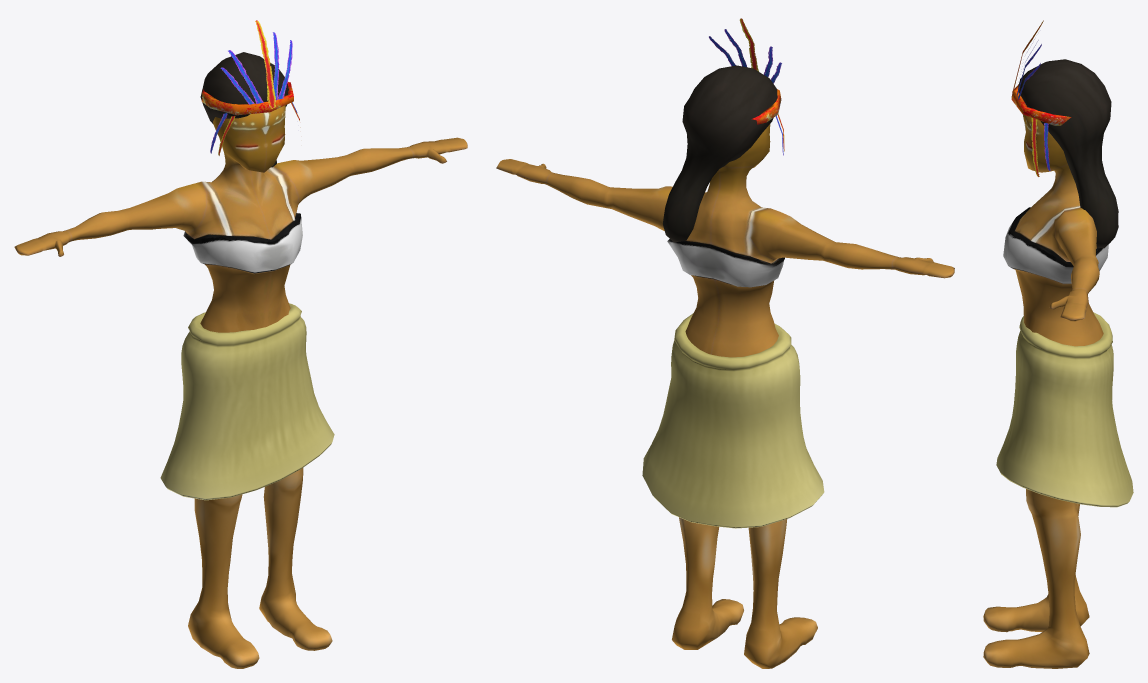
File: taina.fbx
3 renders of one model, left to right at view 1: azimuth 30°, elevation 25°; view 2: azimuth 150°, elevation 25°; view 3: azimuth 270°, elevation 25°, orthographic.
Visible parts, largest first — view 1: taina_body, skirt_mesh, L_leg_mesh1, L_leg_mesh, hair_mesh, hairband_mesh; view 2: skirt_mesh, taina_body, hair_mesh, L_leg_mesh1, L_leg_mesh; view 3: skirt_mesh, taina_body, hair_mesh, L_leg_mesh, L_leg_mesh1, hairband_mesh, feather_6.
Boxes of the visible parts, x1,y1,x2,y2 form: taina_body: (14,105,467,332); skirt_mesh: (160,303,334,500); L_leg_mesh1: (188,494,259,668); L_leg_mesh: (259,468,332,650); hair_mesh: (200,52,288,167); hairband_mesh: (201,82,293,115); skirt_mesh: (642,313,824,528); taina_body: (496,124,954,357); hair_mesh: (663,65,777,242); L_leg_mesh1: (744,519,817,668); L_leg_mesh: (672,517,743,649); skirt_mesh: (996,312,1133,507); taina_body: (1003,114,1108,346); hair_mesh: (1018,59,1118,248); L_leg_mesh: (983,489,1089,668); L_leg_mesh1: (983,503,1089,632); hairband_mesh: (1011,84,1071,125); feather_6: (1031,117,1039,176).
Size of the model in its own units: 10.01 by 13.35 by 2.88.
7 materials, 7 textured.
